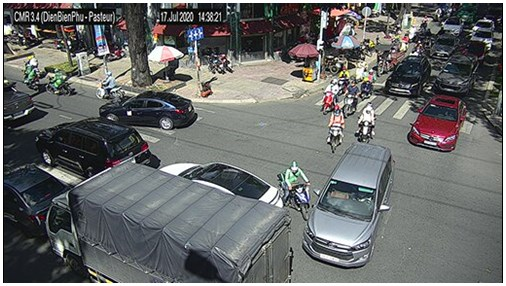xe_ba_gac: (375, 39, 404, 76)
xe_hoi: (302, 142, 395, 268), (35, 121, 151, 177), (157, 162, 284, 208), (4, 166, 66, 235), (100, 91, 195, 130), (407, 95, 467, 151), (435, 50, 479, 94), (385, 56, 432, 97), (431, 34, 460, 60), (470, 27, 493, 52), (442, 17, 464, 35), (472, 20, 495, 36)
xe_may: (278, 162, 310, 220), (95, 71, 125, 100), (355, 102, 376, 142), (327, 105, 344, 152), (45, 69, 71, 97), (343, 81, 360, 116), (321, 79, 338, 114), (22, 67, 39, 93), (362, 70, 375, 100), (336, 67, 348, 94), (23, 57, 41, 74), (356, 57, 367, 80), (414, 41, 423, 57), (401, 34, 409, 51)
xe_tai: (45, 163, 294, 284)
